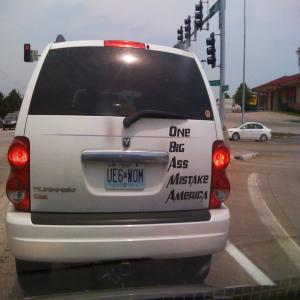Vehicle-registration-plate: (106, 163, 147, 191)
